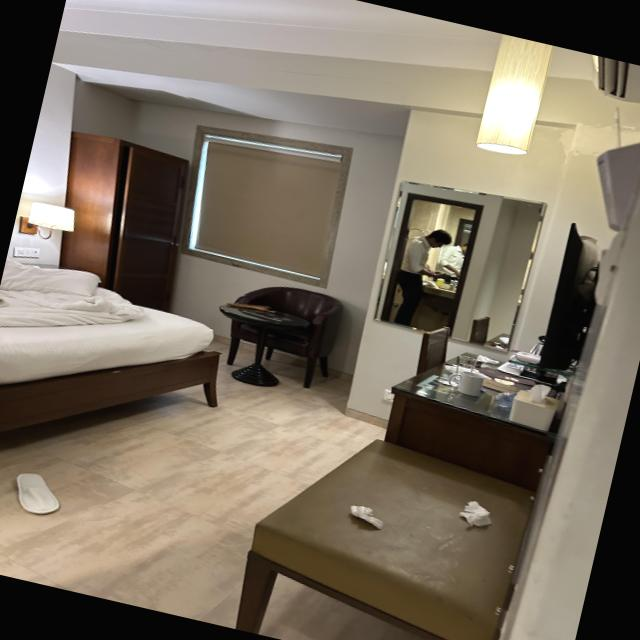mess: (304, 319, 634, 640), (0, 220, 239, 462)
